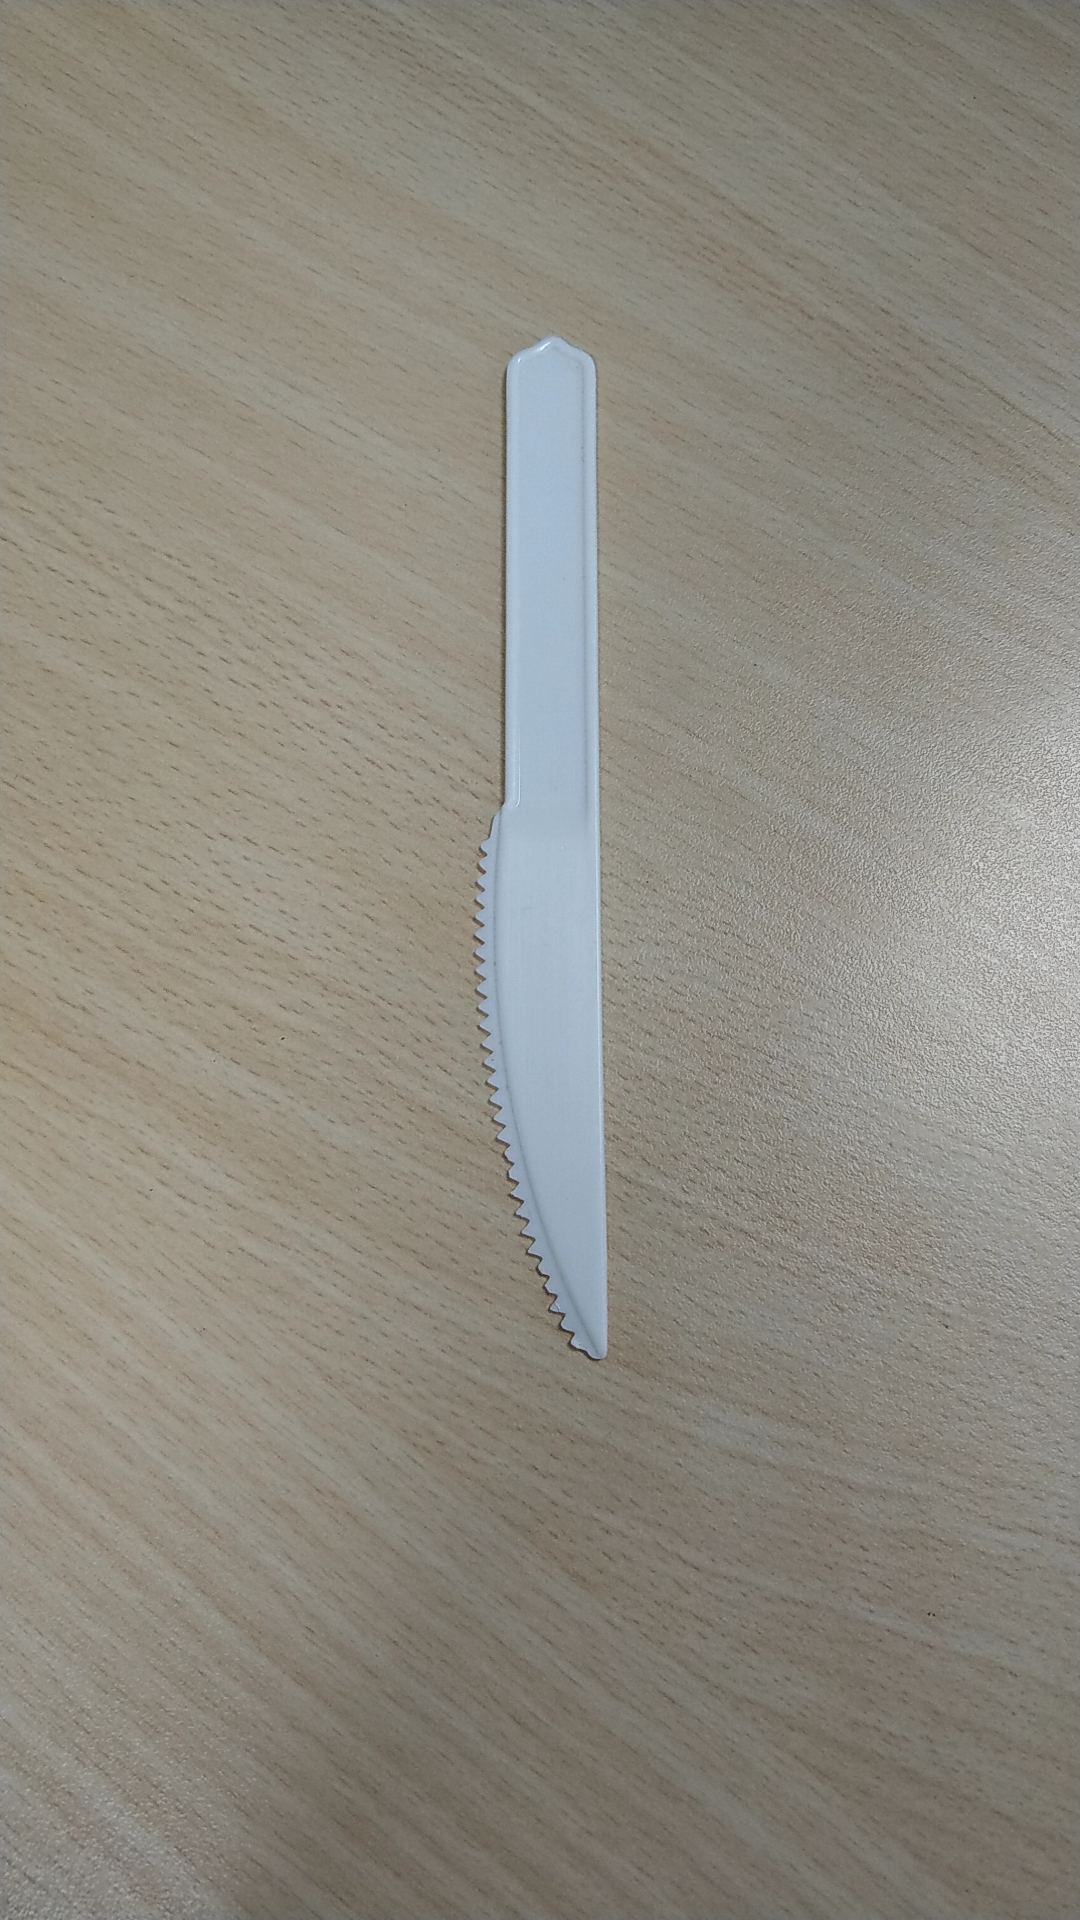knife: (448, 307, 666, 1371)
